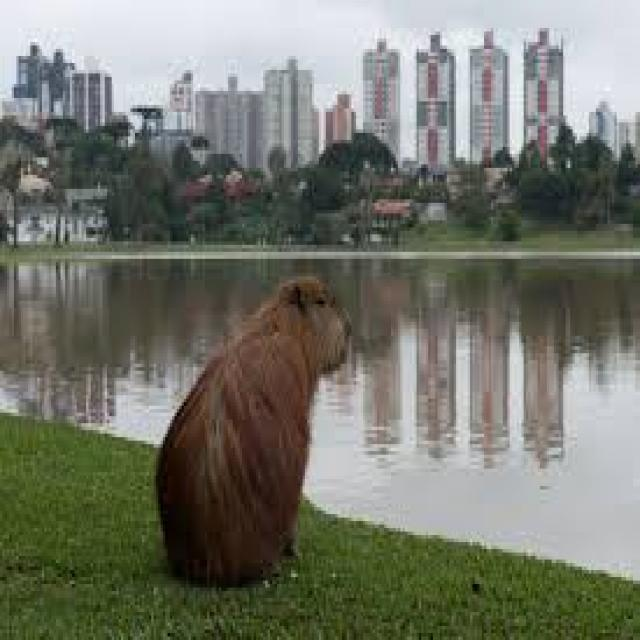capy: (157, 276, 352, 584)
